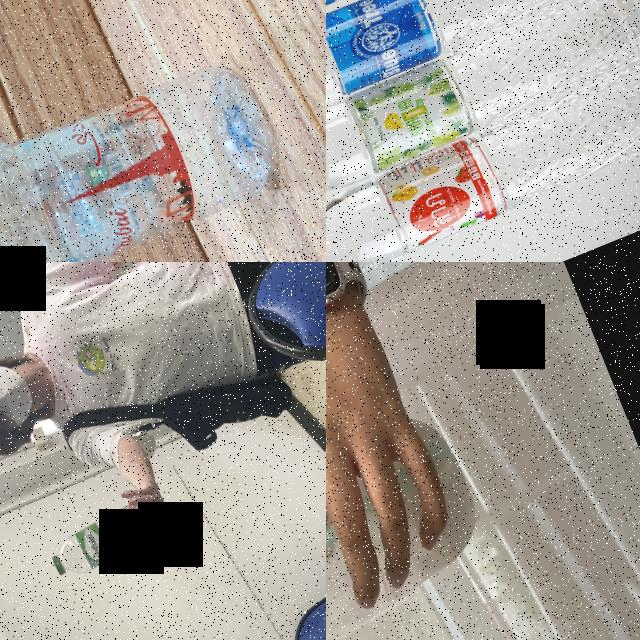bottle: (326, 0, 640, 226), (326, 52, 640, 262), (0, 41, 294, 262), (326, 0, 640, 147), (326, 0, 625, 59), (42, 494, 165, 582)
cup: (326, 389, 512, 640)
